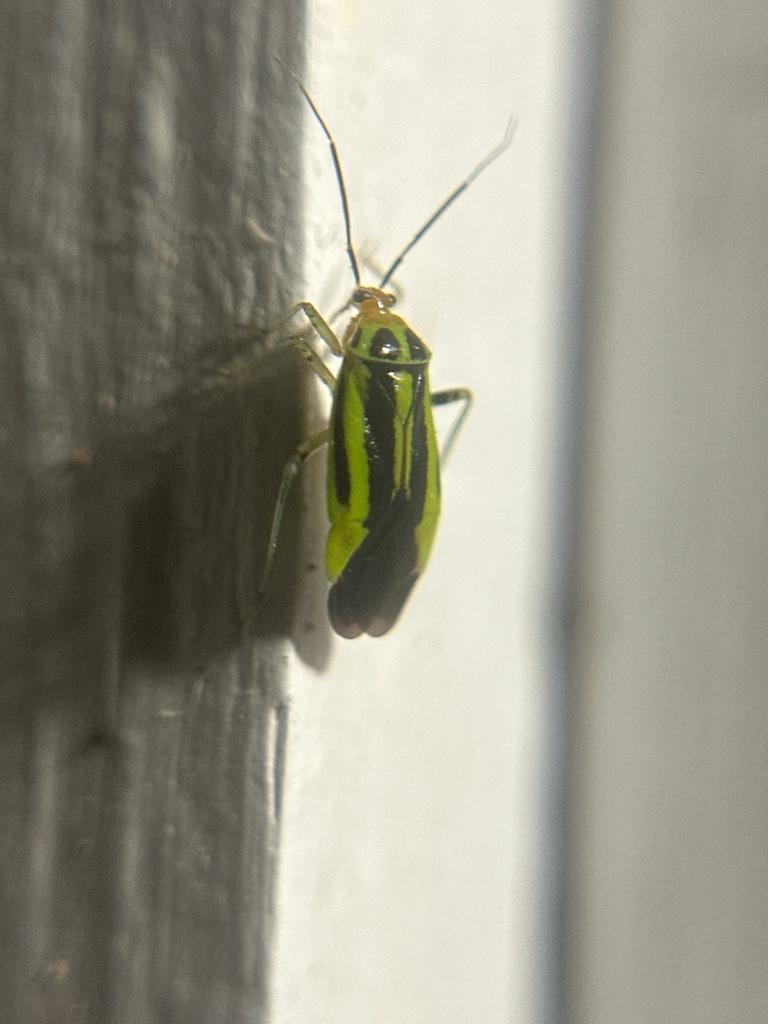plant_bugs: (164, 0, 576, 713)
